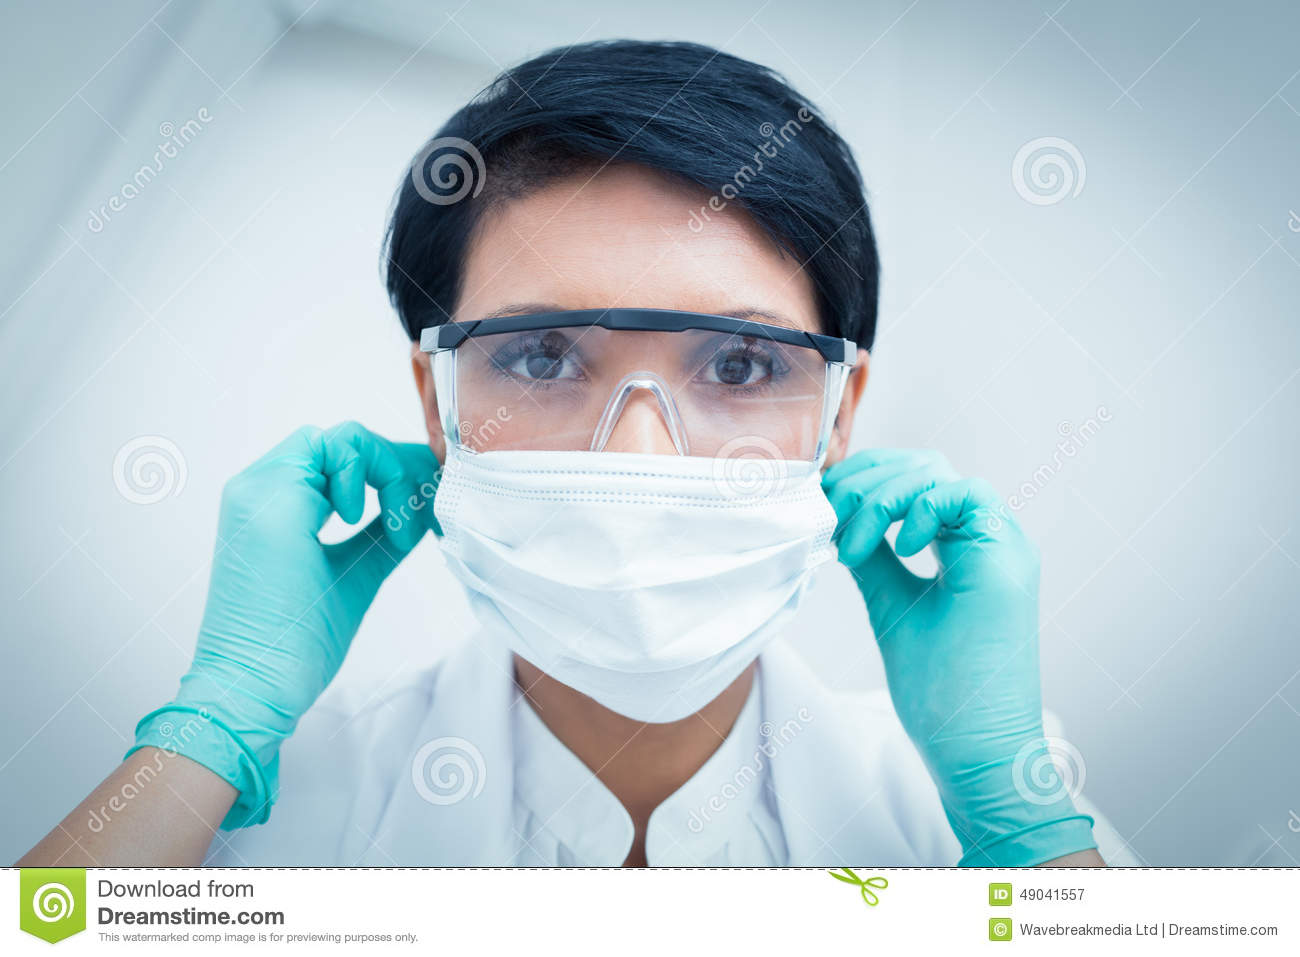mask: (419, 439, 864, 748)
